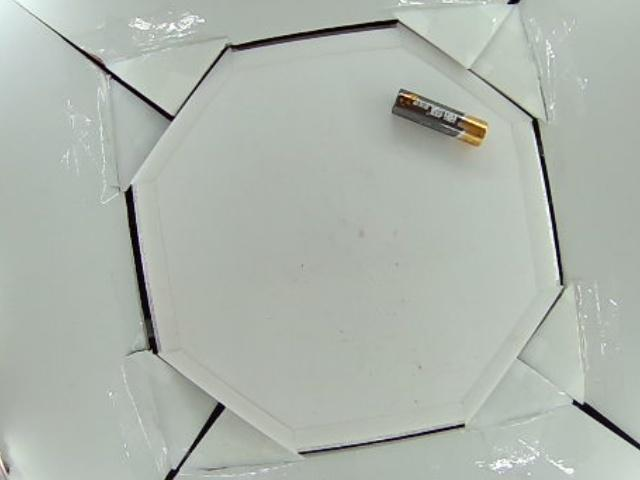Battery: (392, 88, 490, 146)
